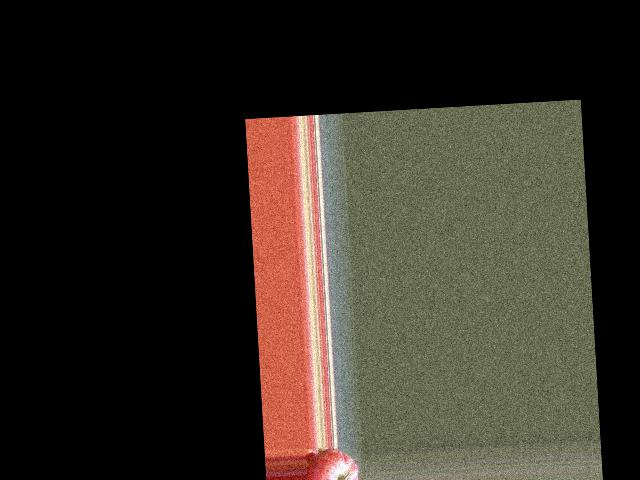tomato: (303, 446, 360, 480)
